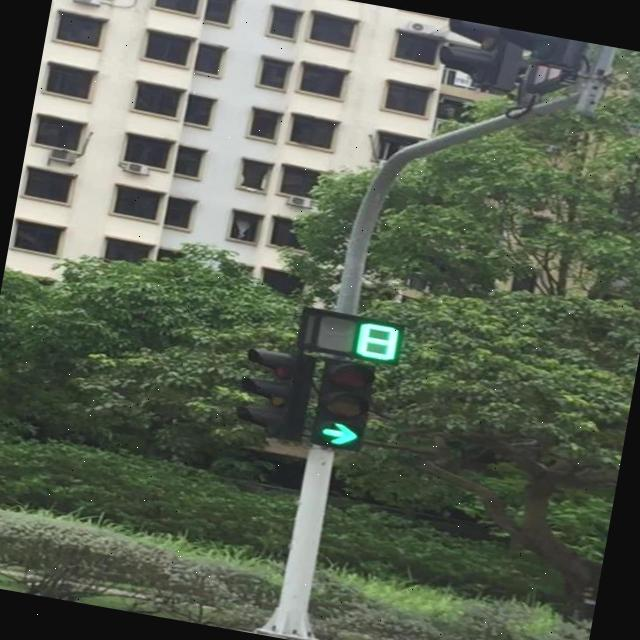green_light: (310, 357, 378, 454)
